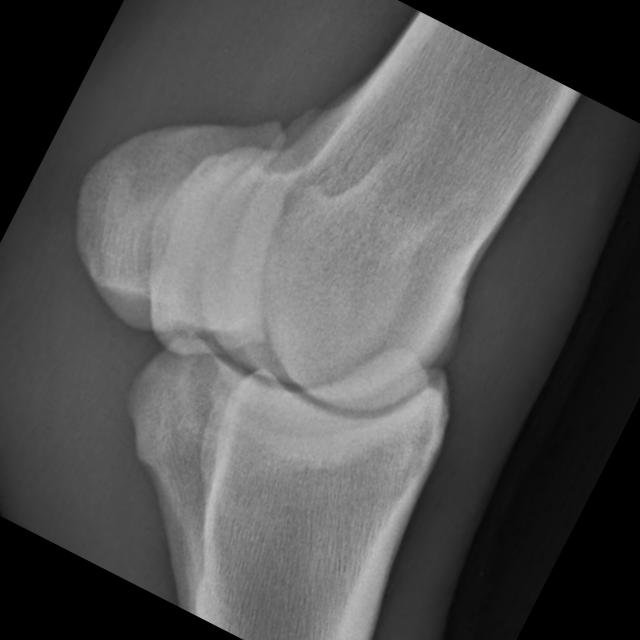bone remodeling: (227, 84, 320, 182)
